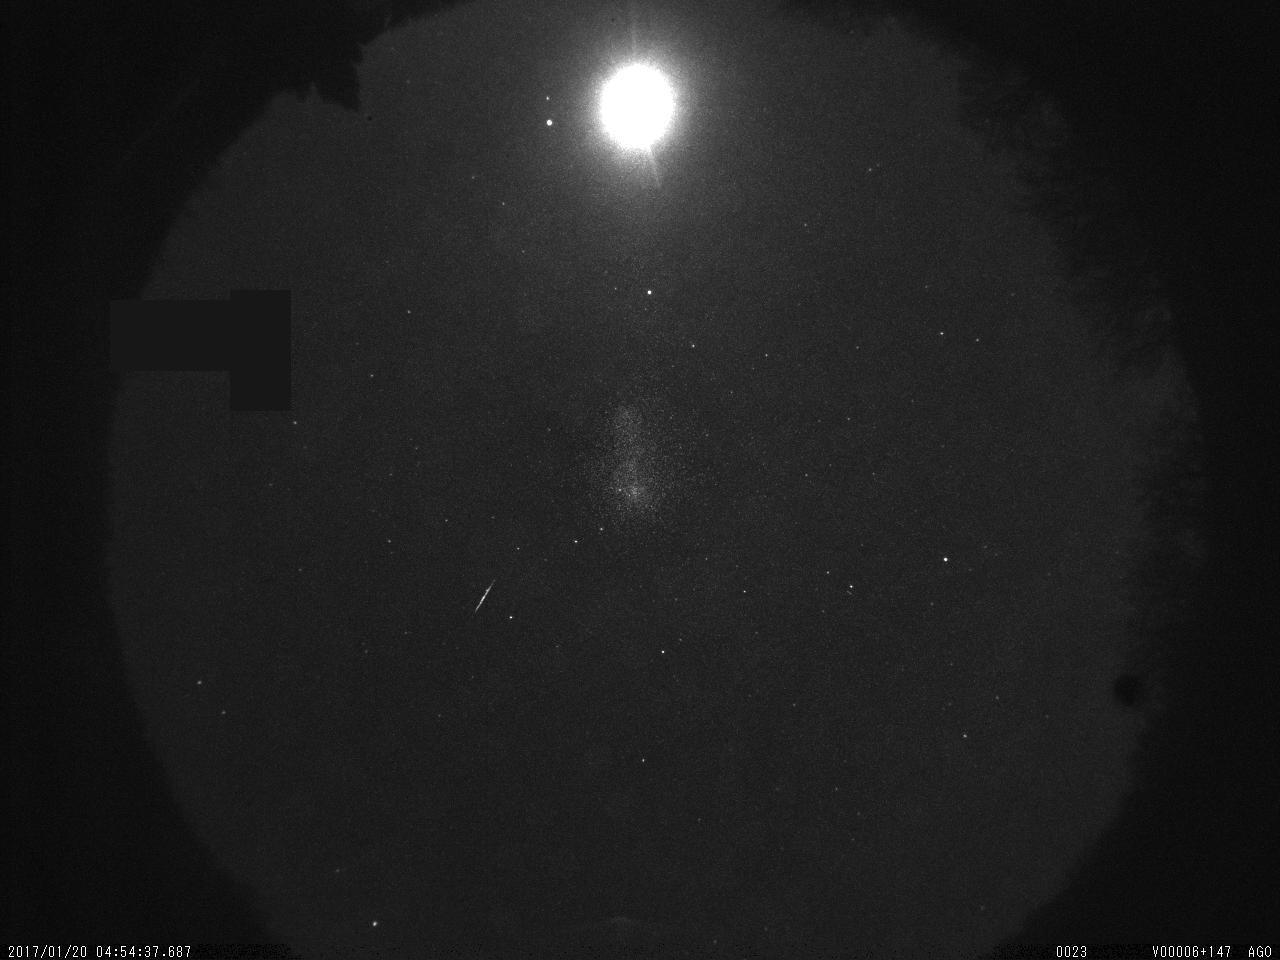Meteor: (469, 576, 496, 616)
